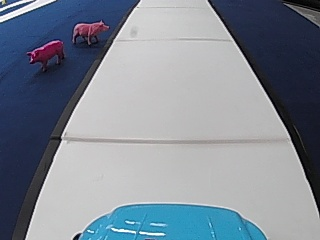pig: (24, 37, 66, 73), (70, 17, 109, 45)
